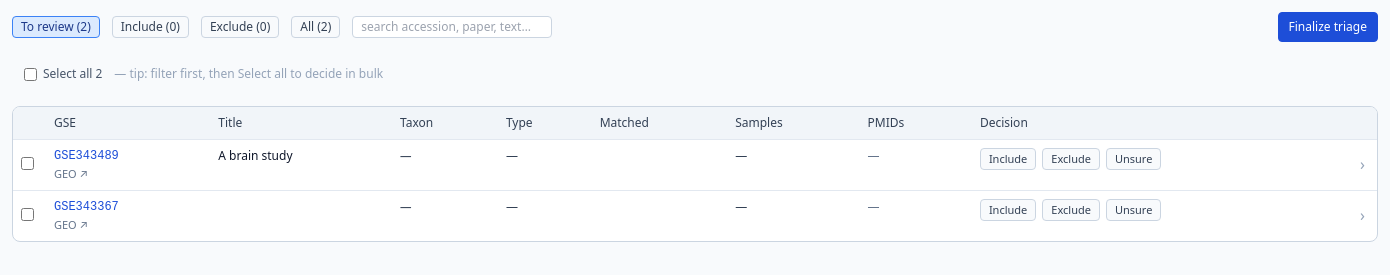
Test: bulk decisions on a legacy GEO-scrape ticket › offers an undecide path once rows are selected
Click the checkbox labelled "Select all 2". click: [30, 74]
box: top-left (24, 68), bottom-right (37, 80)
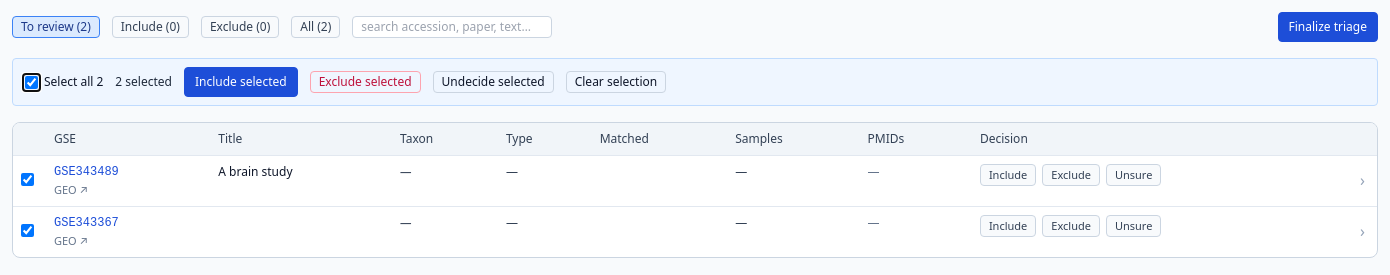
Check: the button "Undecide selected" is shown, box top-left (433, 71), bottom-right (554, 93)
Check: the button "Clear selection" is shown, box top-left (566, 71), bottom-right (666, 93)
